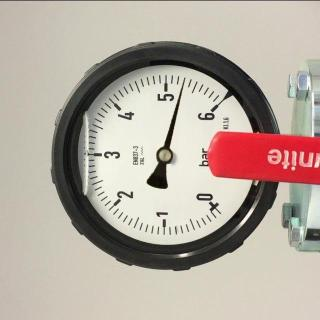gauge: (50, 20, 290, 278), (194, 188, 226, 218), (200, 98, 224, 122), (155, 146, 174, 164), (182, 74, 186, 86)
